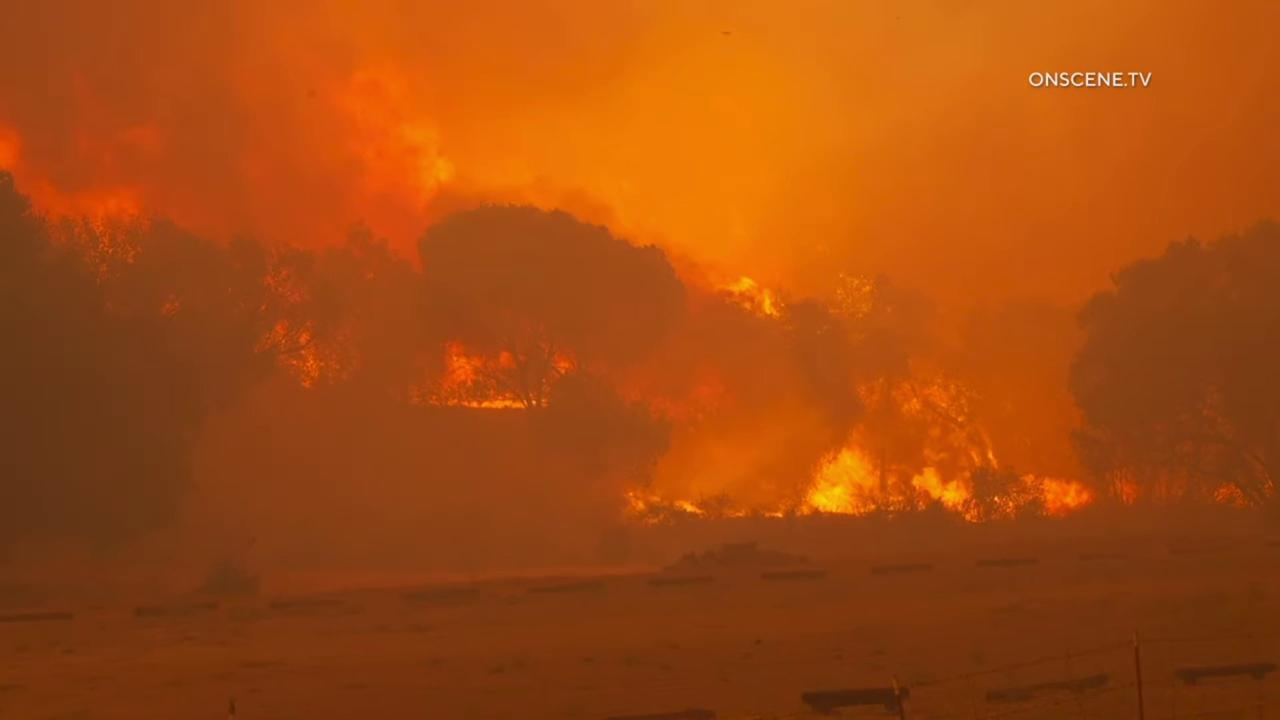fire: (792, 364, 1098, 524), (402, 331, 583, 413), (622, 484, 792, 525), (709, 274, 791, 322), (1104, 460, 1144, 509), (1212, 470, 1256, 510)
smoke: (0, 0, 1280, 720)
